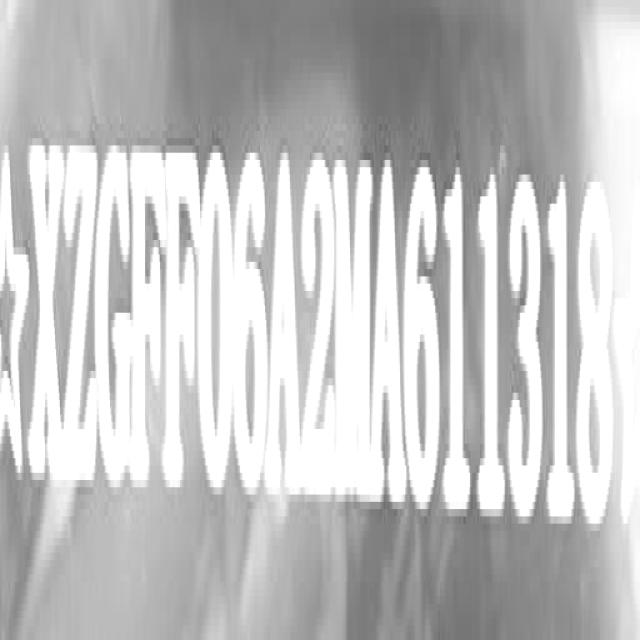0: (198, 139, 234, 497)
1: (476, 166, 504, 533), (548, 168, 576, 530), (442, 159, 468, 521)
2: (300, 142, 338, 515)
3: (510, 172, 544, 532)
6: (404, 158, 443, 522), (234, 142, 268, 507)
8: (580, 174, 617, 527)
A: (267, 141, 302, 515), (372, 151, 404, 521)
F: (133, 135, 169, 498), (168, 140, 200, 503)
G: (98, 140, 137, 498)
M: (338, 145, 375, 516)
X: (28, 145, 64, 500)
Z: (62, 132, 98, 496)
